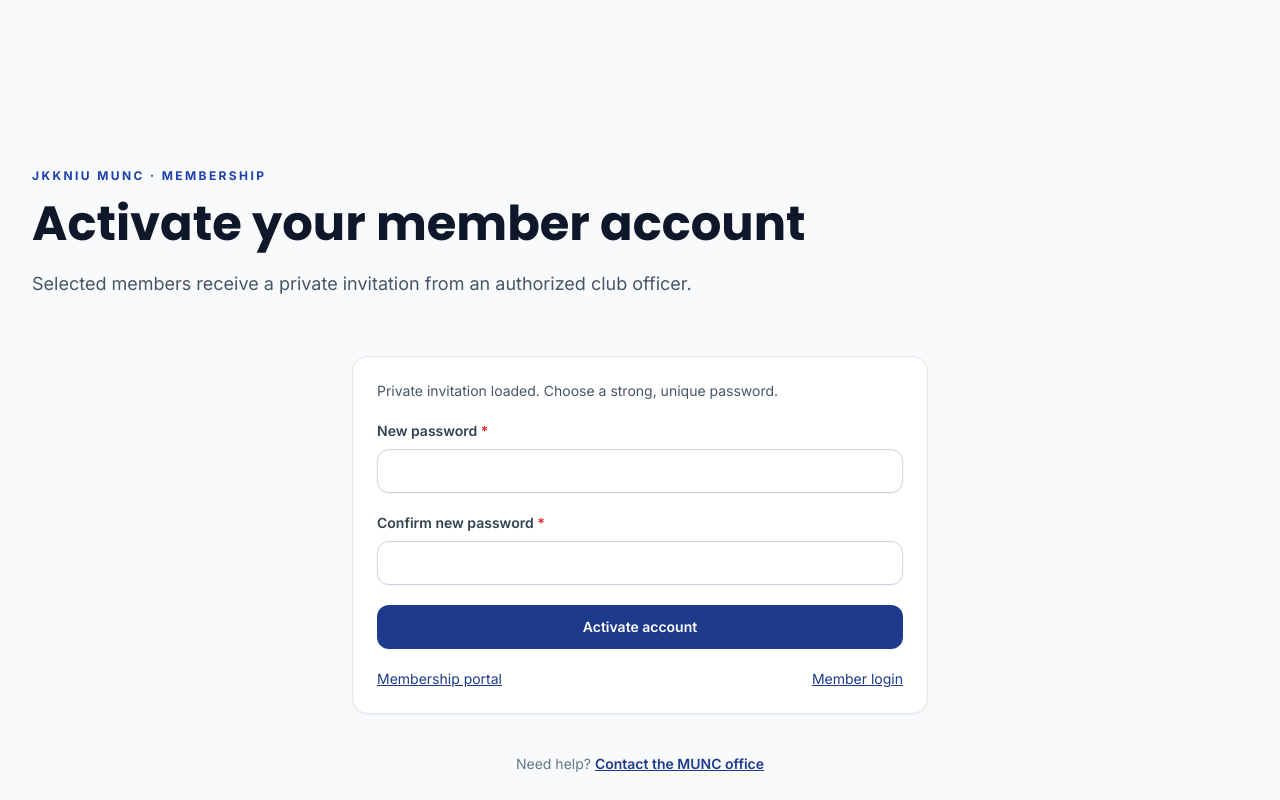
Test: membership portal › removes a private capability from browser URL and requires matching passwords
The width and height of the screenshot is (1280, 800).
In the password field labelled "New password *": (640, 471) [377, 449, 903, 493], type "A-strong-password-123"
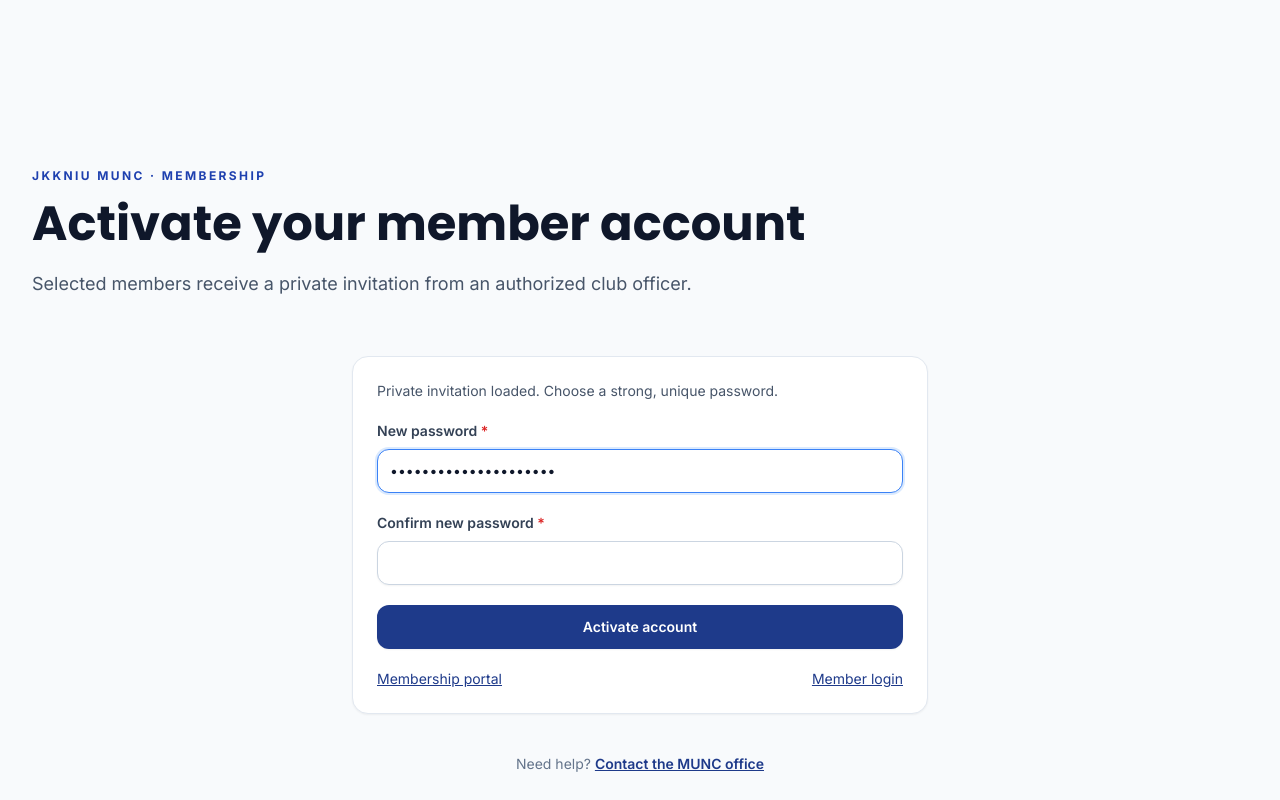
In the password field labelled "Confirm new password *": (640, 563) [377, 541, 903, 585], type "different-password-123"
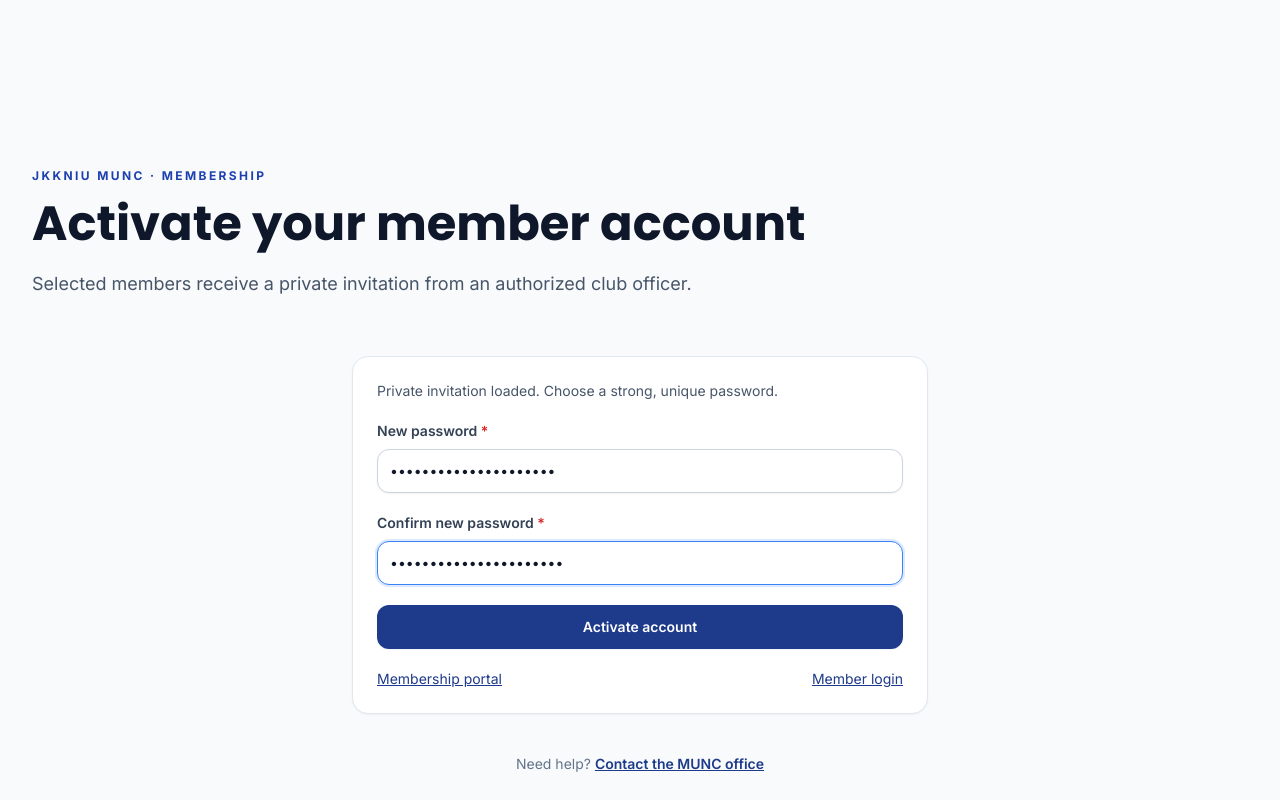
Click the button "Activate account": (640, 627) [377, 605, 903, 649]
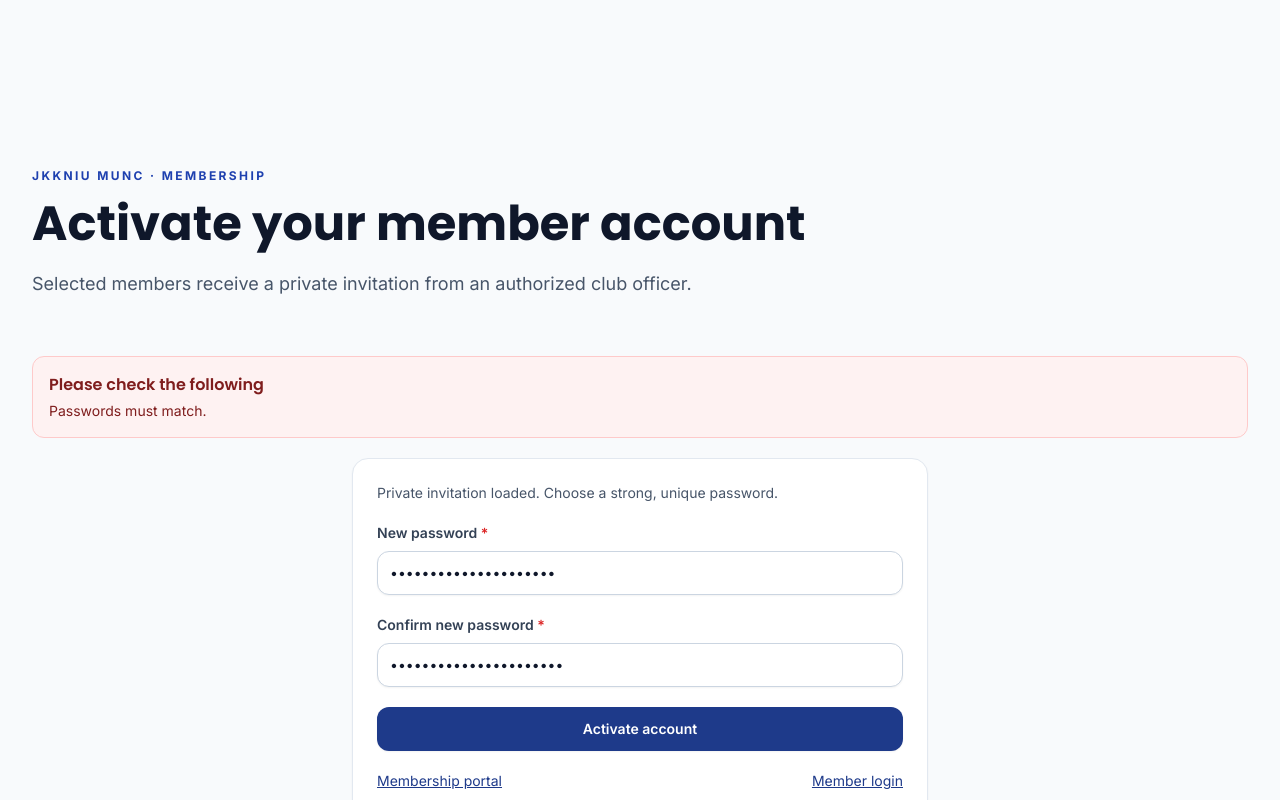
Result: the text "Passwords must match." is shown at [49, 402, 206, 419]
